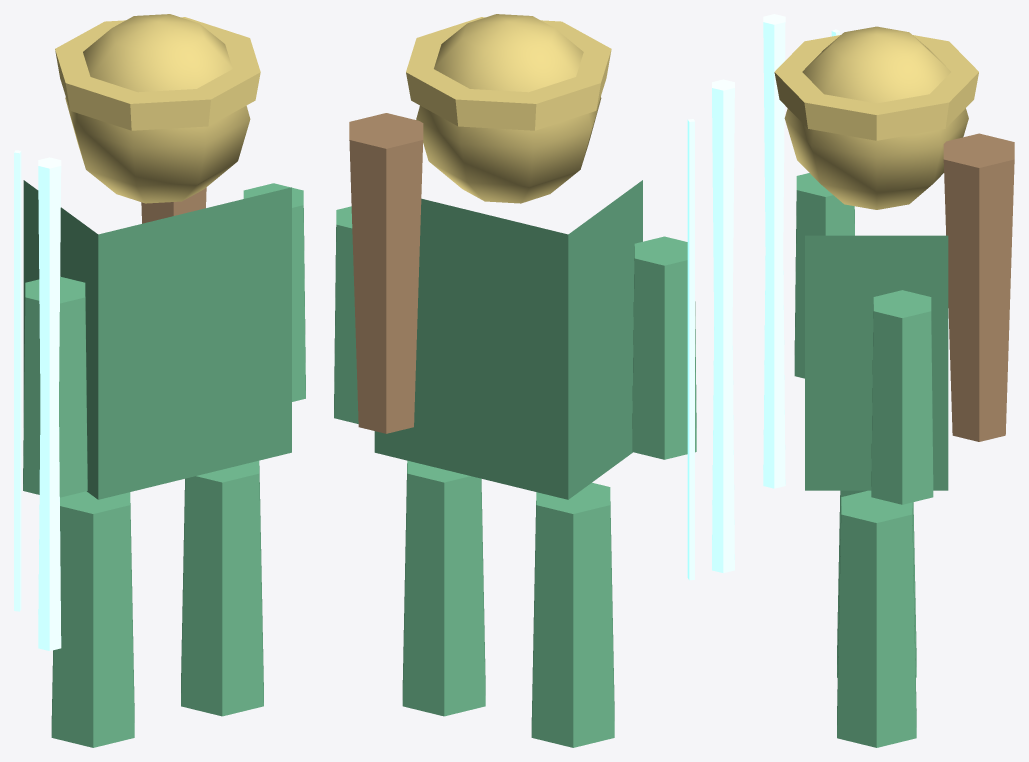
Rendered from hero_lyra.glb.
The picture shows the model from 3 angles, left to right: view 1: azimuth 30°, elevation 25°; view 2: azimuth 150°, elevation 25°; view 3: azimuth 270°, elevation 25°; orthographic projection. The views are drawn at different scales.
Visible parts, largest first — view 1: Torso, Head, RightLeg, LeftLeg, Weapon, LeftArm, RightArm, Quiver; view 2: Torso, Head, Quiver, LeftLeg, RightLeg, Weapon, LeftArm, RightArm; view 3: Head, Torso, Quiver, RightLeg, RightArm, Weapon, LeftArm, LeftLeg.
Boxes of the visible parts, <box> form: Torso: <box>23,180,291,499</box>; Head: <box>55,14,260,203</box>; RightLeg: <box>181,460,263,716</box>; LeftLeg: <box>51,491,134,747</box>; Weapon: <box>14,150,61,650</box>; LeftArm: <box>23,276,87,497</box>; RightArm: <box>243,183,305,401</box>; Quiver: <box>141,187,206,223</box>; Torso: <box>374,180,642,499</box>; Head: <box>406,14,611,203</box>; Quiver: <box>349,113,423,433</box>; LeftLeg: <box>531,482,614,747</box>; RightLeg: <box>402,460,485,716</box>; Weapon: <box>687,79,734,580</box>; LeftArm: <box>632,236,696,459</box>; RightArm: <box>334,206,358,423</box>; Head: <box>774,26,978,209</box>; Torso: <box>805,235,948,490</box>; Quiver: <box>943,133,1014,441</box>; RightLeg: <box>837,490,916,747</box>; RightArm: <box>871,290,933,504</box>; Weapon: <box>763,14,839,488</box>; LeftArm: <box>794,173,854,378</box>; LeftLeg: <box>837,490,916,677</box>.
Bounding box in the file's own units: 0.725 × 1.43 × 0.4909.
